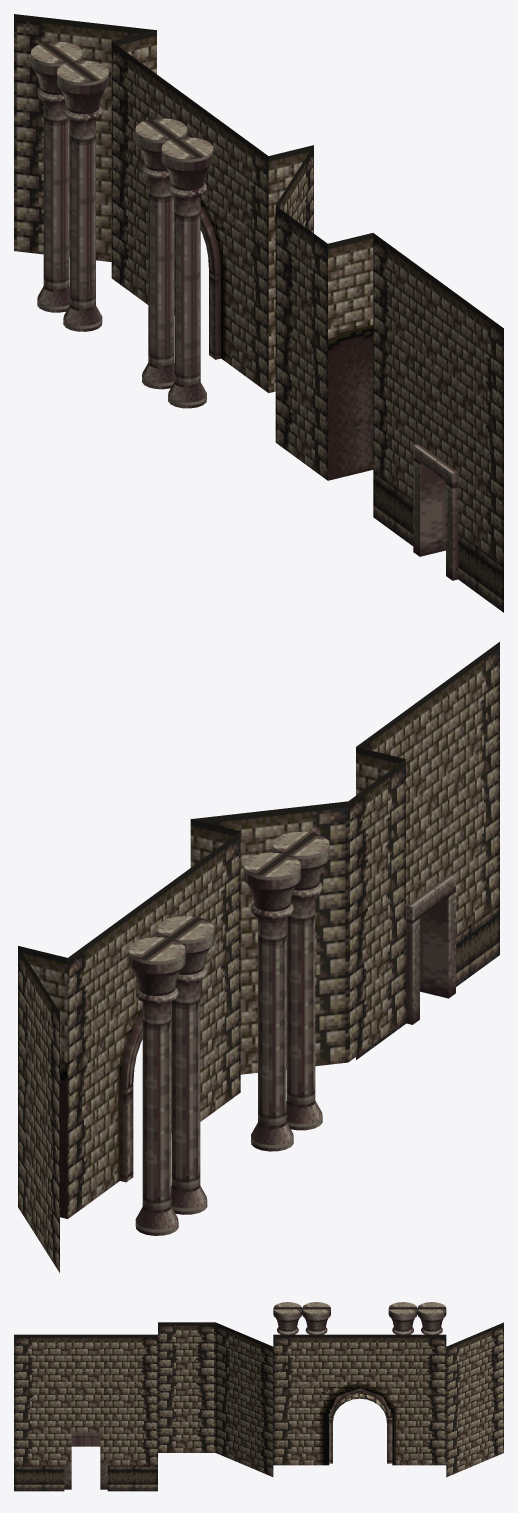
Rendered from ObjMD_Auction_A_Wall_Hide.FBX.
3 renders of one model, top to bottom at view 1: azimuth 30°, elevation 25°; view 2: azimuth 150°, elevation 25°; view 3: azimuth 270°, elevation 25°, orthographic. The views are drawn at different scales.
Parts seen in each view (by area): view 1: ObjMD_Auction_A_Wall_Hide; view 2: ObjMD_Auction_A_Wall_Hide; view 3: ObjMD_Auction_A_Wall_Hide.
Boxes of the visible parts, x1=… form: ObjMD_Auction_A_Wall_Hide: x1=14, y1=14, x2=503, y2=612; ObjMD_Auction_A_Wall_Hide: x1=18, y1=642, x2=499, y2=1272; ObjMD_Auction_A_Wall_Hide: x1=14, y1=1302, x2=503, y2=1491.
Size of the model in its own units: 300 by 631 by 1700.
